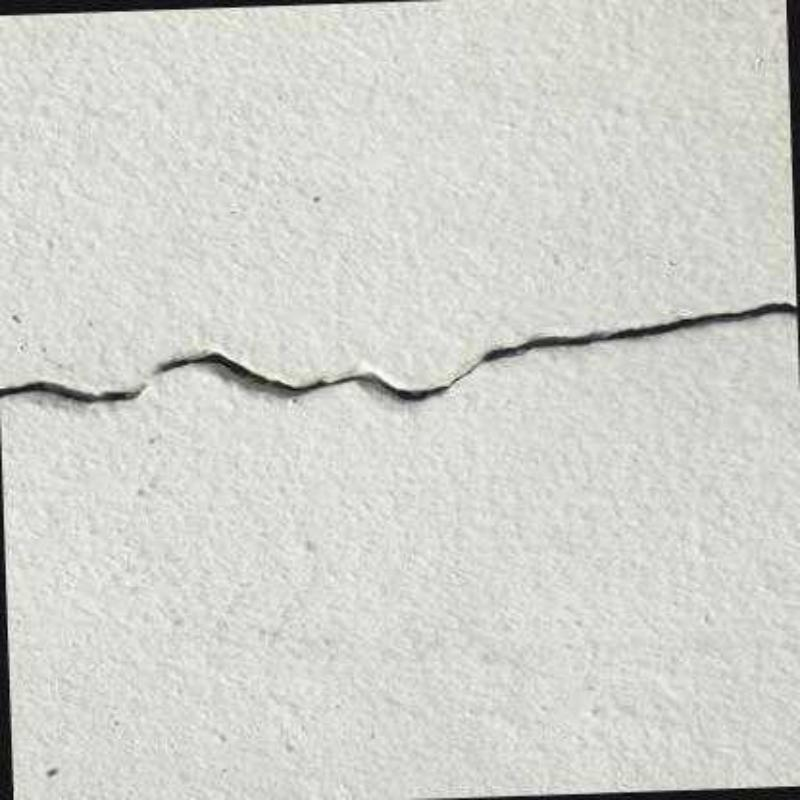pothole: (0, 299, 797, 404)
